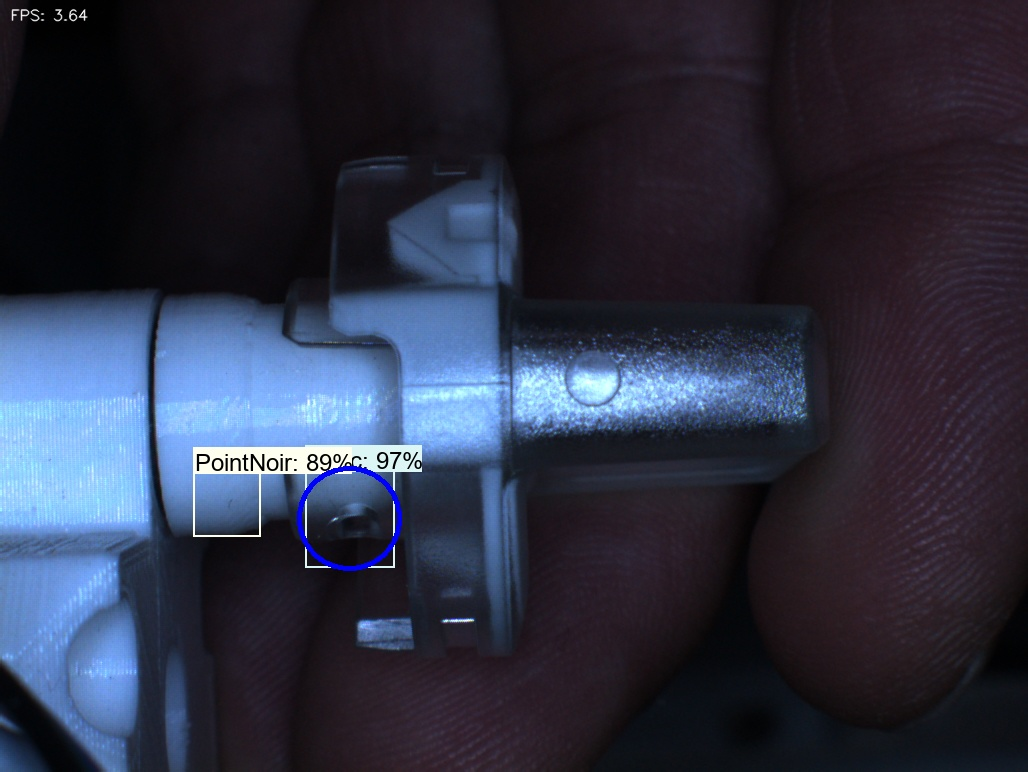DentOk: (357, 191, 438, 286)
